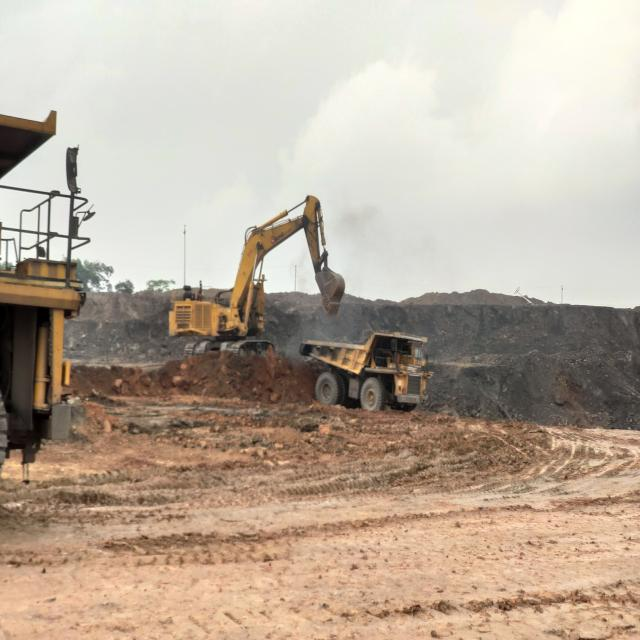dump_truck: (0, 148, 88, 452), (296, 333, 432, 413), (0, 111, 57, 176)
excavator: (168, 195, 345, 364)
